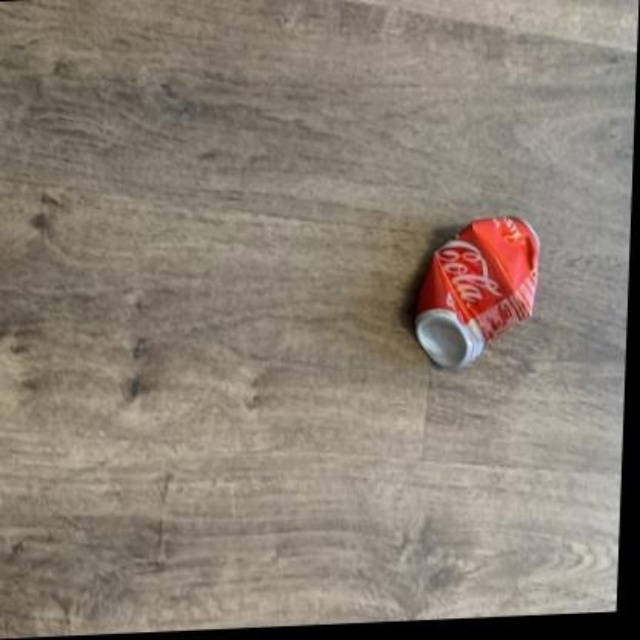trash: (415, 217, 538, 368)
